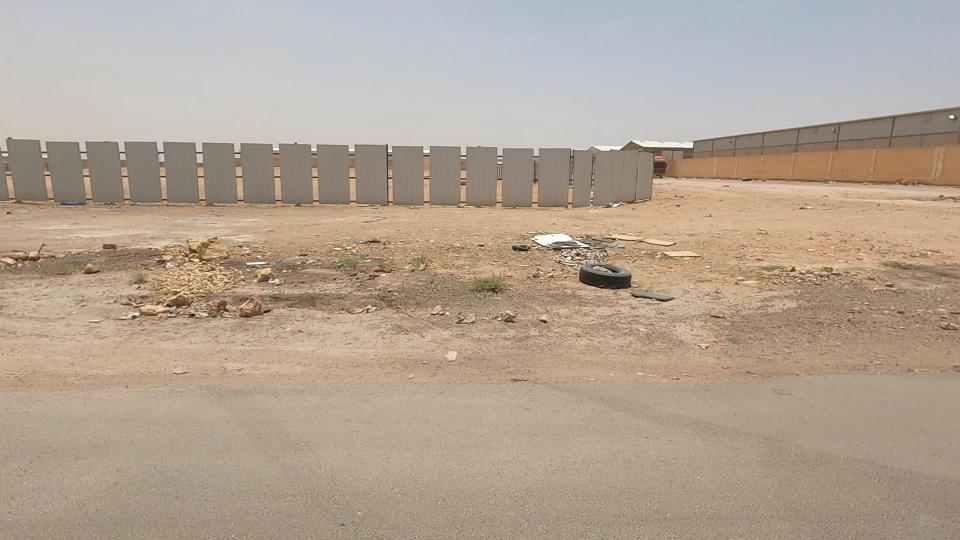GARBAGE: (199, 217, 355, 328), (485, 190, 624, 285), (533, 233, 647, 308), (590, 266, 705, 332), (316, 223, 414, 296), (571, 202, 679, 265), (626, 221, 726, 289)
